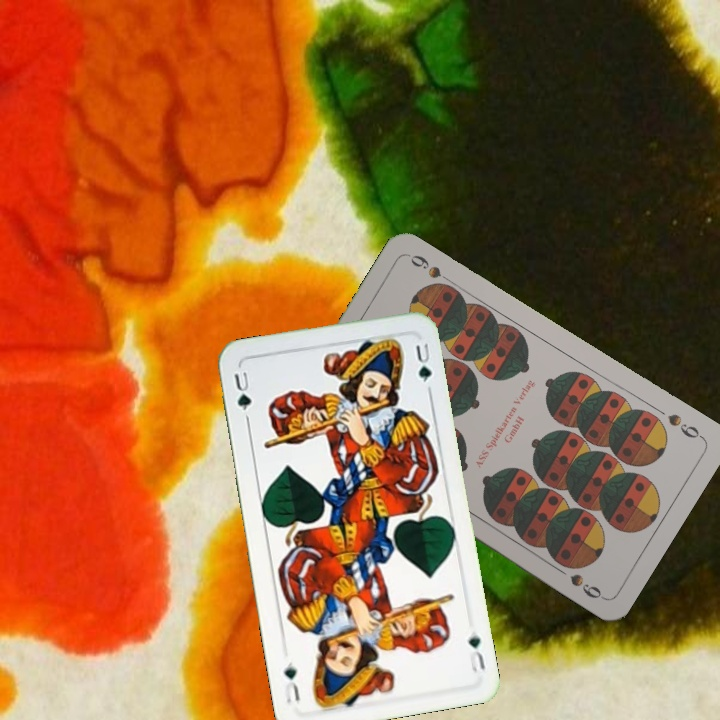GU: (230, 367, 254, 413), (464, 630, 488, 676)
S9: (663, 409, 706, 442)
